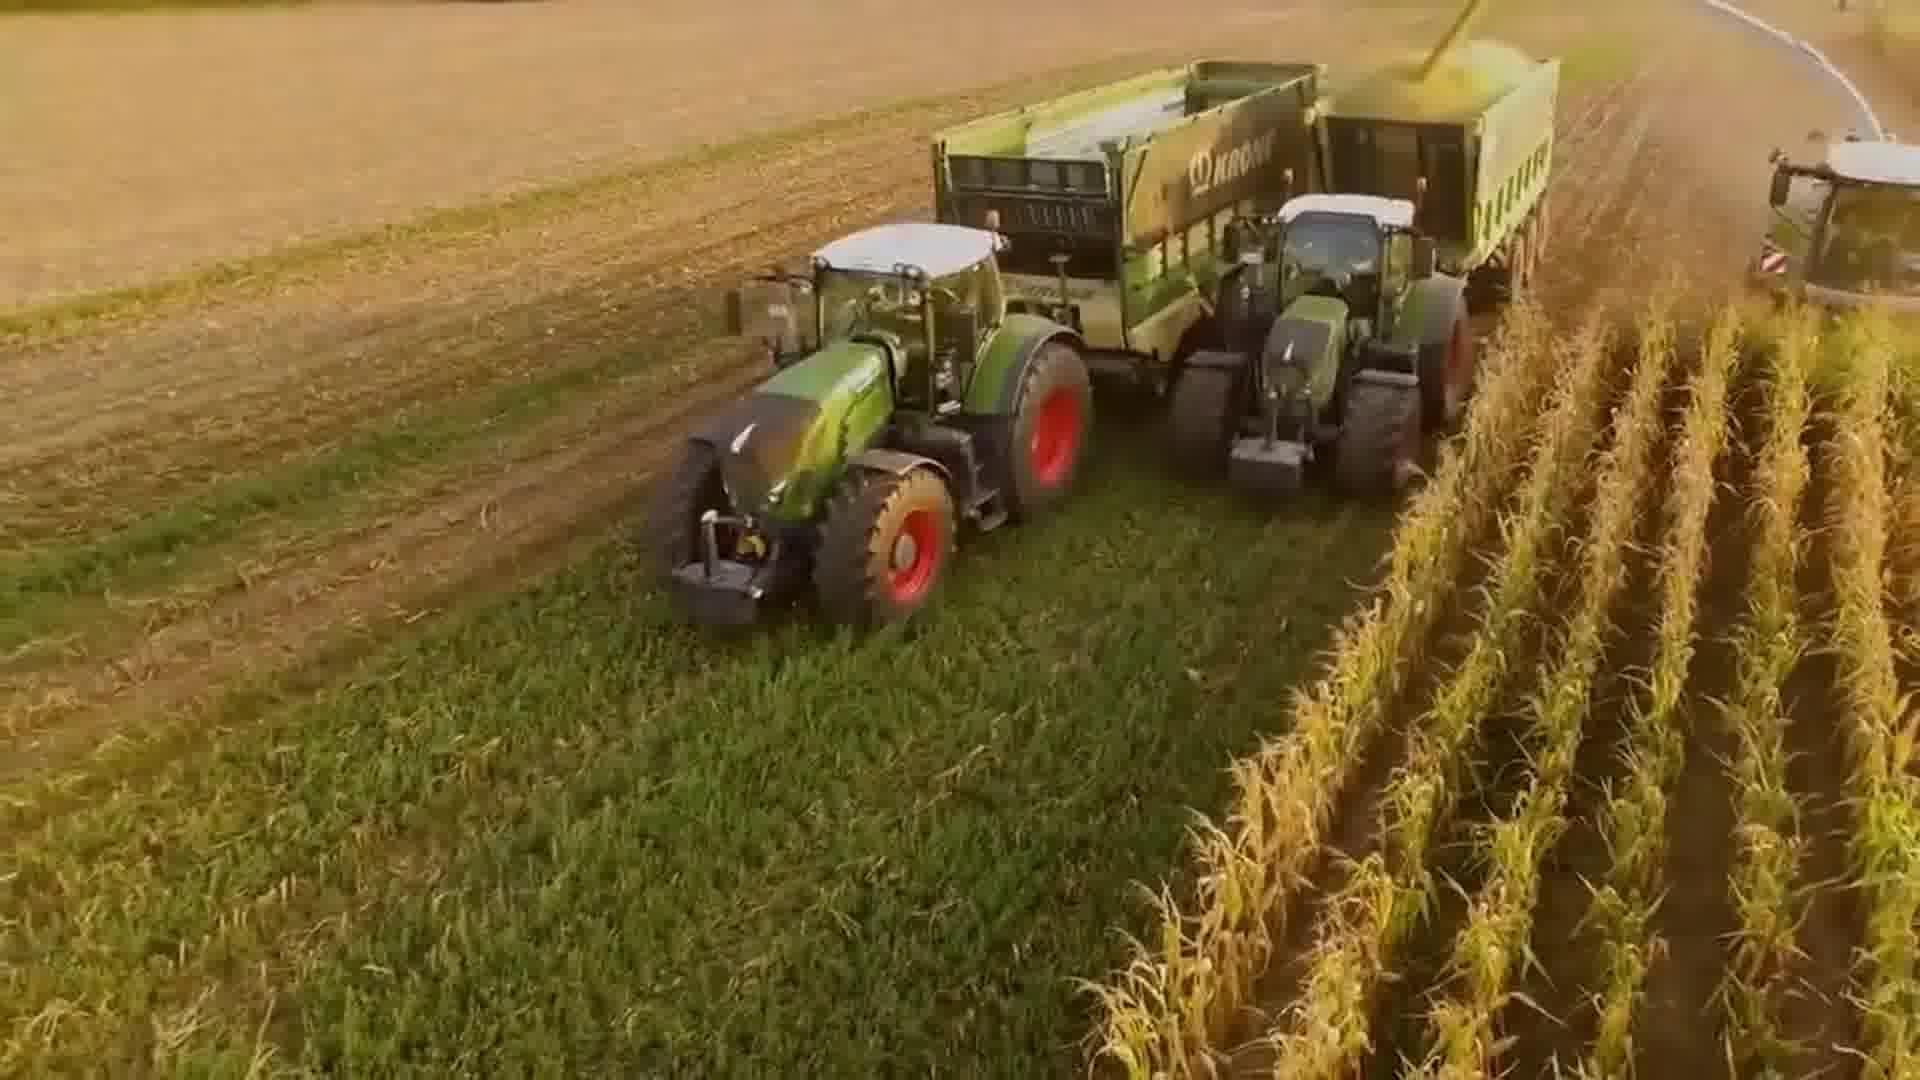combine harvester: (1668, 0, 1920, 342)
tractor: (641, 207, 1108, 634), (1158, 171, 1481, 509)
trailer: (923, 45, 1323, 345), (1308, 38, 1568, 285)
